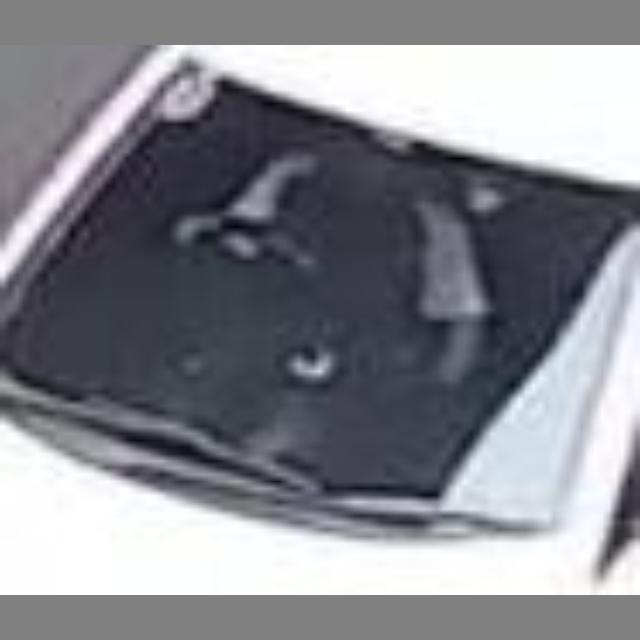tidak-pakai: (186, 107, 454, 375)
